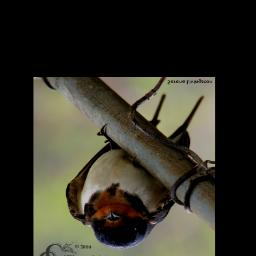Swallow: (66, 95, 205, 249)
